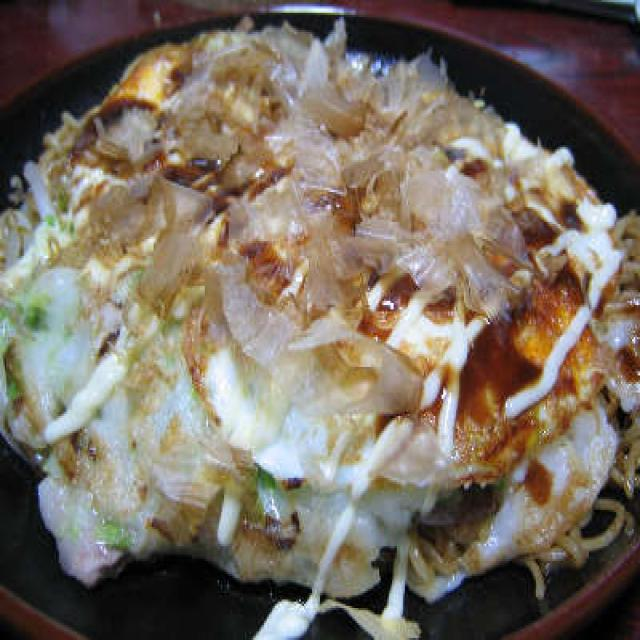蛋糕甜品: (0, 26, 640, 600)
